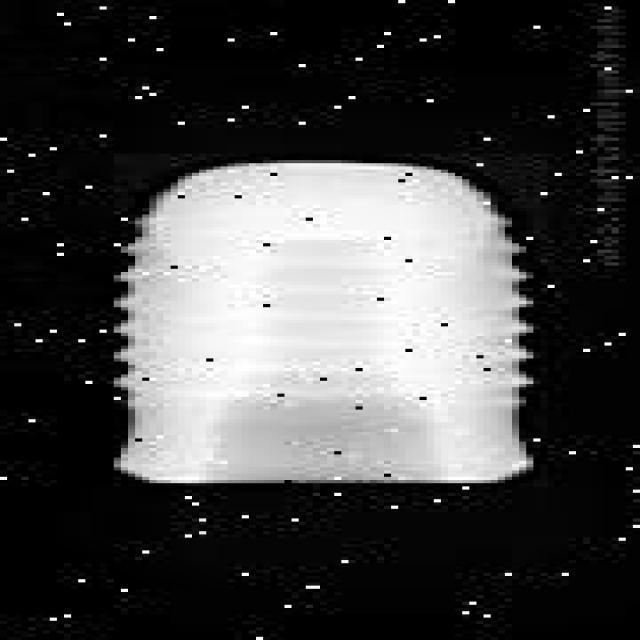Titan Implant Implant: (112, 151, 551, 490)
